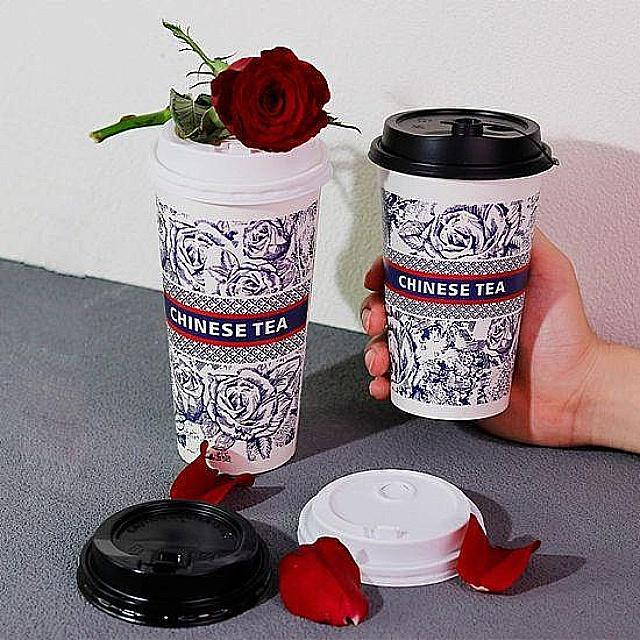paper_cup: (150, 109, 334, 484), (365, 101, 559, 430)
